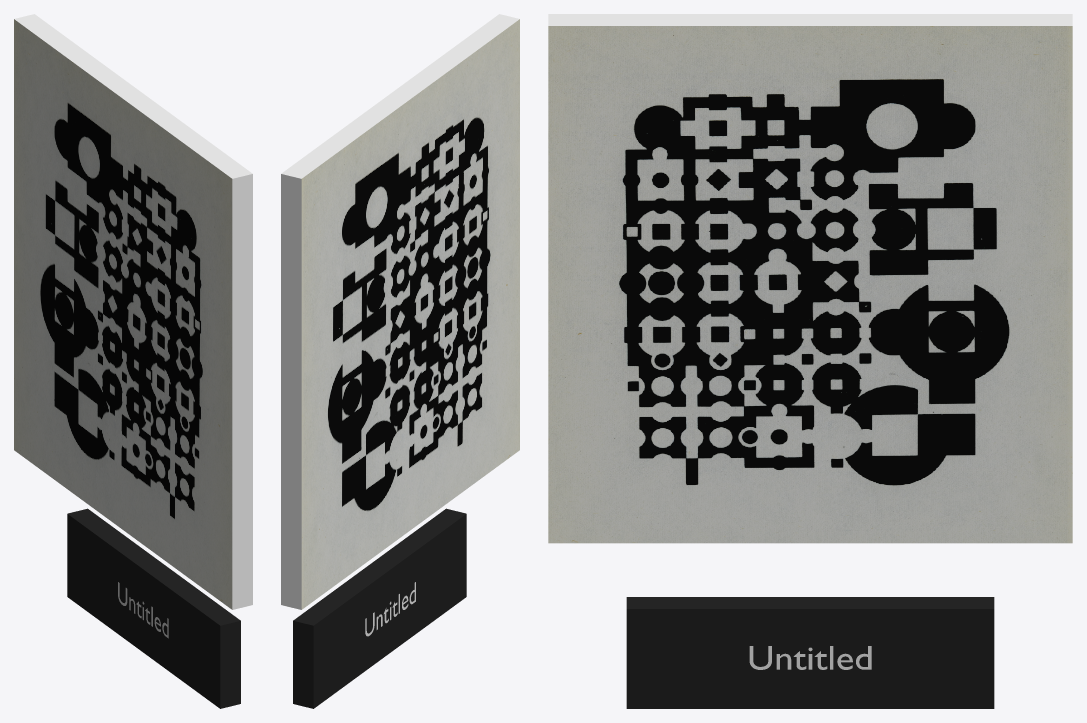
File: Tableau - 001-W-1003-b.fbx
The picture shows the model from 3 angles, left to right: view 1: azimuth 30°, elevation 25°; view 2: azimuth 150°, elevation 25°; view 3: azimuth 270°, elevation 25°; orthographic projection. The views are drawn at different scales.
Visible parts, largest first — view 1: 0001-W-1003-b, Pancarte, Text; view 2: 0001-W-1003-b, Pancarte, Text; view 3: 0001-W-1003-b, Pancarte, Text.001.
Part boxes in pixels (box(x1,y1,x2,y2)): 0001-W-1003-b: box(14, 14, 252, 609); Pancarte: box(67, 508, 240, 708); Text: box(118, 582, 168, 638); 0001-W-1003-b: box(281, 14, 519, 609); Pancarte: box(293, 508, 466, 708); Text: box(365, 582, 415, 636); 0001-W-1003-b: box(548, 14, 1072, 543); Pancarte: box(626, 597, 994, 708); Text.001: box(749, 646, 871, 669).
Size of the model in its own units: 10.1 by 130 by 91.81.
Materials: 4 (1 with a texture image).
